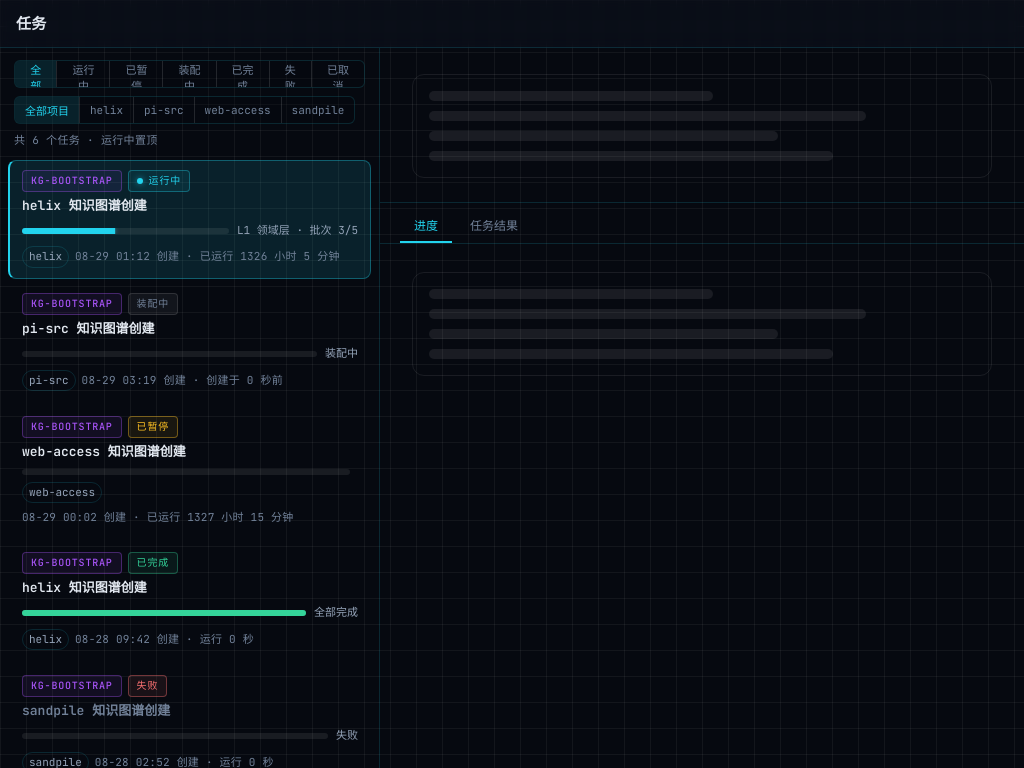
P-2 TasksPage：生命周期 + 删除门控（F3.5/F3.6） › 终态详情：仅删除钮；删除两步确认（kg 产出不动）→ 行移除 + 选中回落 + toast
This screenshot has width=1024, height=768.
Step 1. Click the 4th button with class "tk-row" → click(72, 563), box [8,542,371,661]
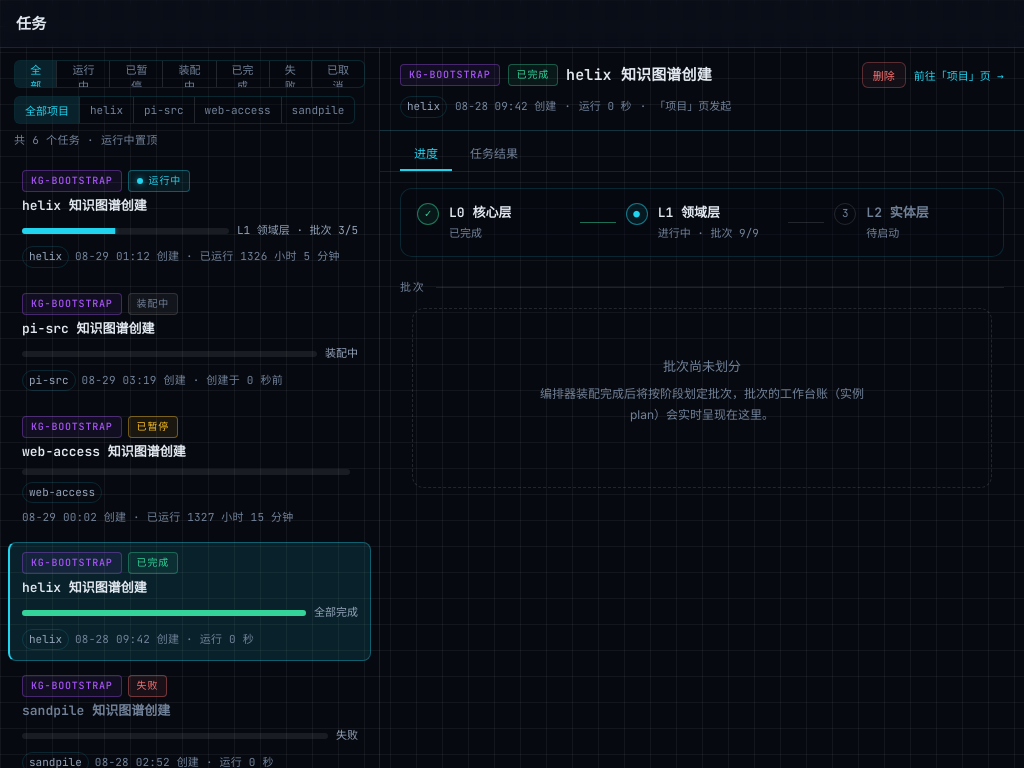
Now the button "删除" is shown
Now the button "前往「项目」页 →" is shown, box [914,67,1004,83]
# 两步确认文案：清任务域记录 + kg 产出不动 + 不可撤销
Step 2. Click the button "删除" → click(884, 75), box [862,62,906,88]
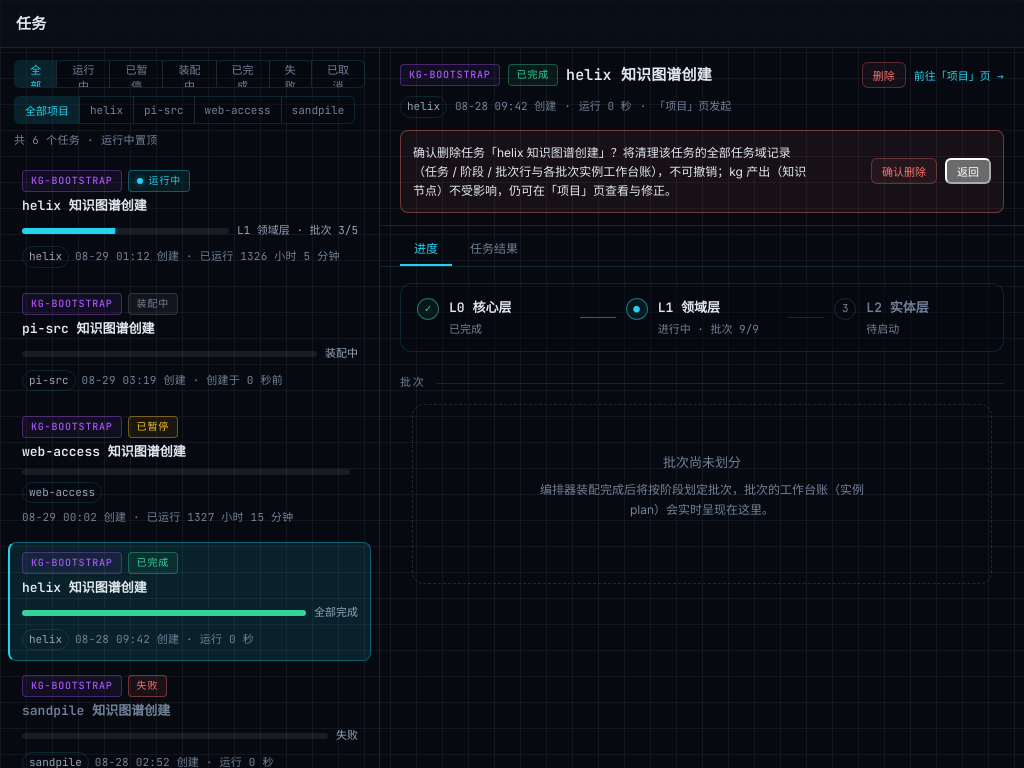
Now the text "任务域记录" is shown, box [413,145,806,198]
Now the text "kg 产出" is shown, box [413,145,806,198]
Now the text "不可撤销" is shown, box [413,145,806,198]
Step 3. Click the button "返回" → click(968, 171), box [945,158,991,184]
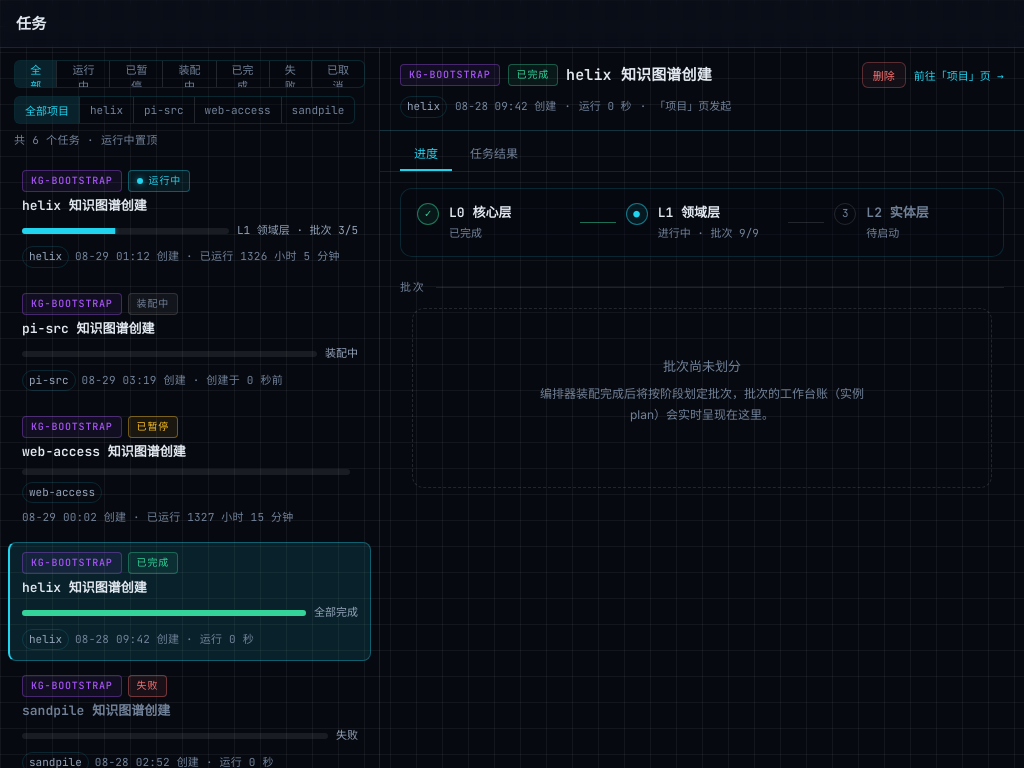
Step 4. Click the button "删除" → click(884, 75), box [862,62,906,88]
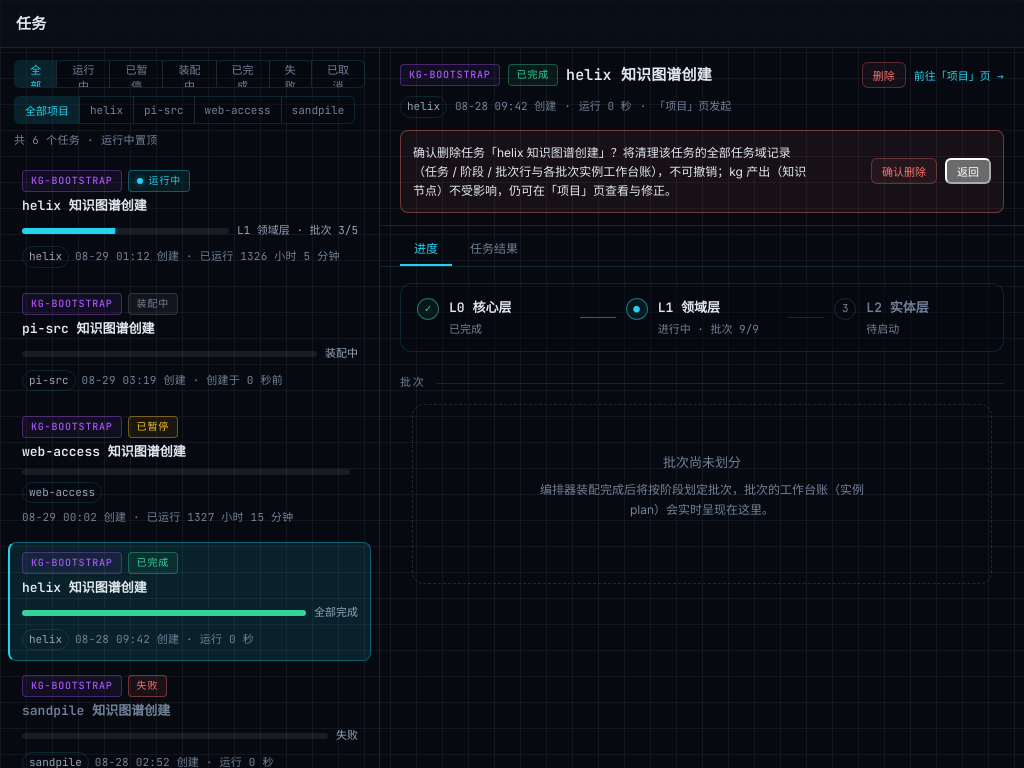
Step 5. Click the button "确认删除" → click(904, 171), box [871,158,937,184]
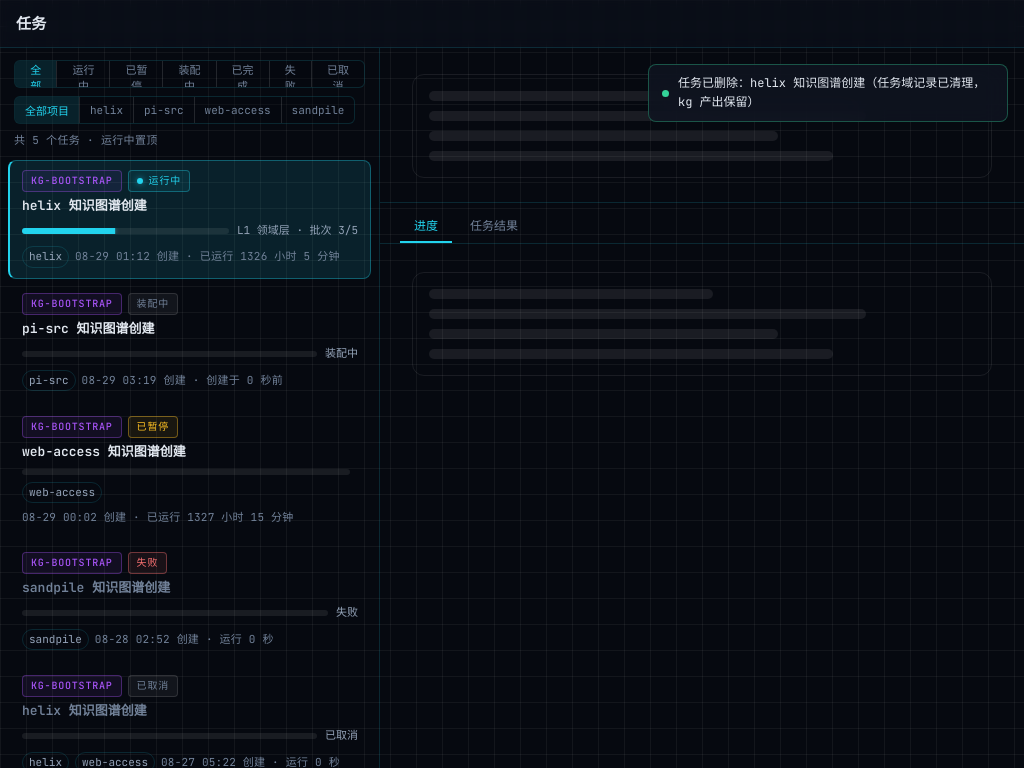
Expected: the number of buttons with class "tk-row" is 5, [8,160,371,279]; [8,283,371,402]; [8,406,371,538]; [8,542,371,661]; [8,665,371,767]
Now the text "任务已删除：helix 知识图谱创建（任务域记录已清理，kg 产出保留）" is shown, box [678,74,994,112]
